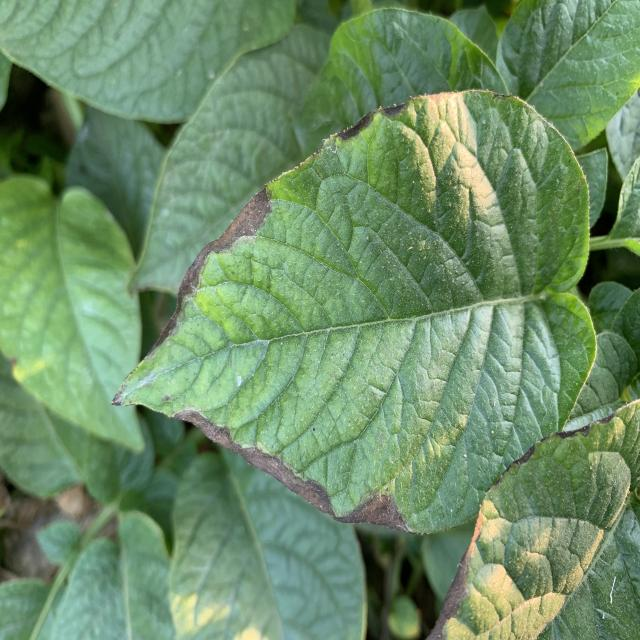lateblight: (171, 407, 414, 532), (156, 188, 271, 347)
